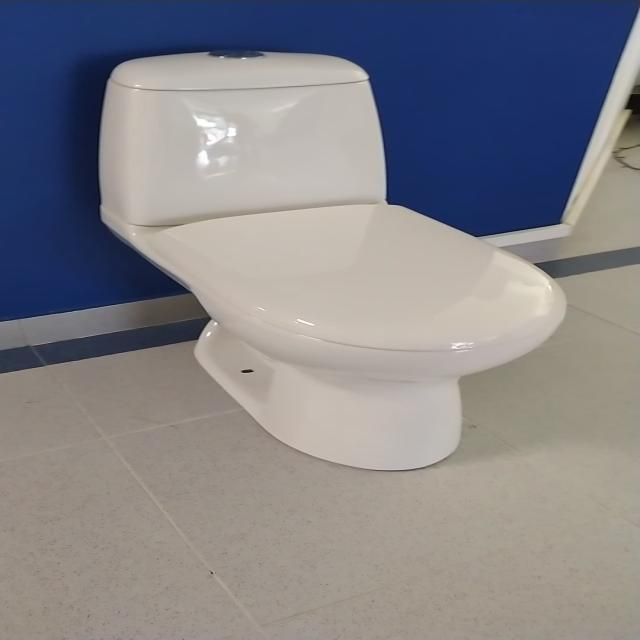toilet: (97, 49, 567, 471)
